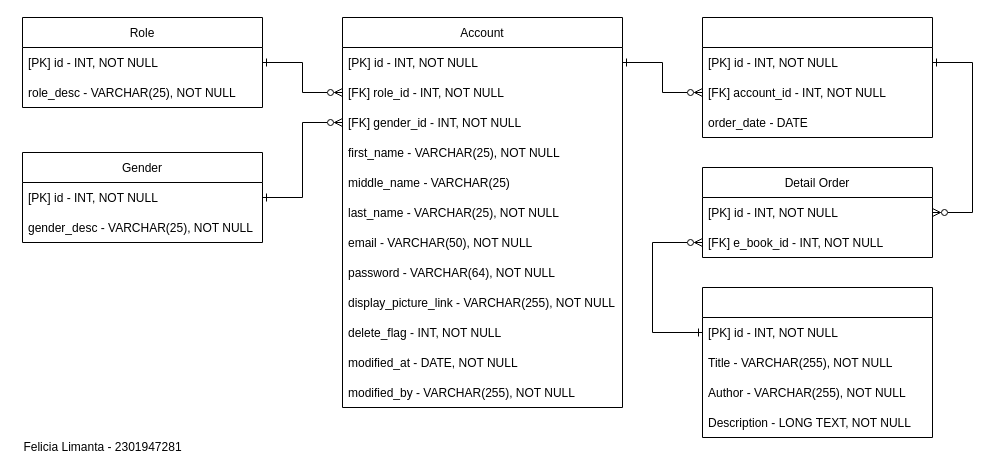
This 999x475 diagram has some shape labels left out. The box of each missing label's shape, as (x1, y1, x2, y2) in pixels:
EBook: (702, 286, 932, 438)
Header Order: (702, 16, 932, 138)
